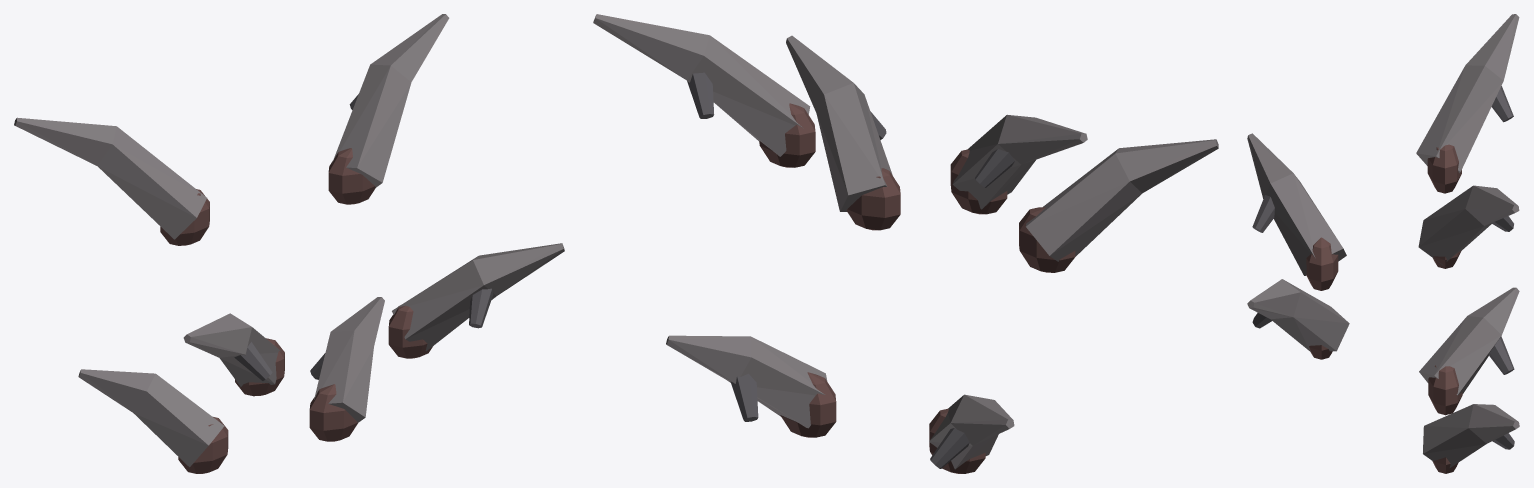
Rendered from implants_thin_barbs.obj.
3 renders of one model, left to right at view 1: azimuth 30°, elevation 25°; view 2: azimuth 150°, elevation 25°; view 3: azimuth 270°, elevation 25°, orthographic. The views are drawn at different scales.
Visible parts, largest first — view 1: implants_thin_barbs; view 2: implants_thin_barbs; view 3: implants_thin_barbs.
Part boxes in pixels (box(x1,y1,x2,y2)): implants_thin_barbs: box(14, 14, 564, 473); implants_thin_barbs: box(593, 14, 1218, 473); implants_thin_barbs: box(1247, 14, 1519, 473).
Bounding box in the file's own units: 0.6631 × 0.5314 × 0.3939.
